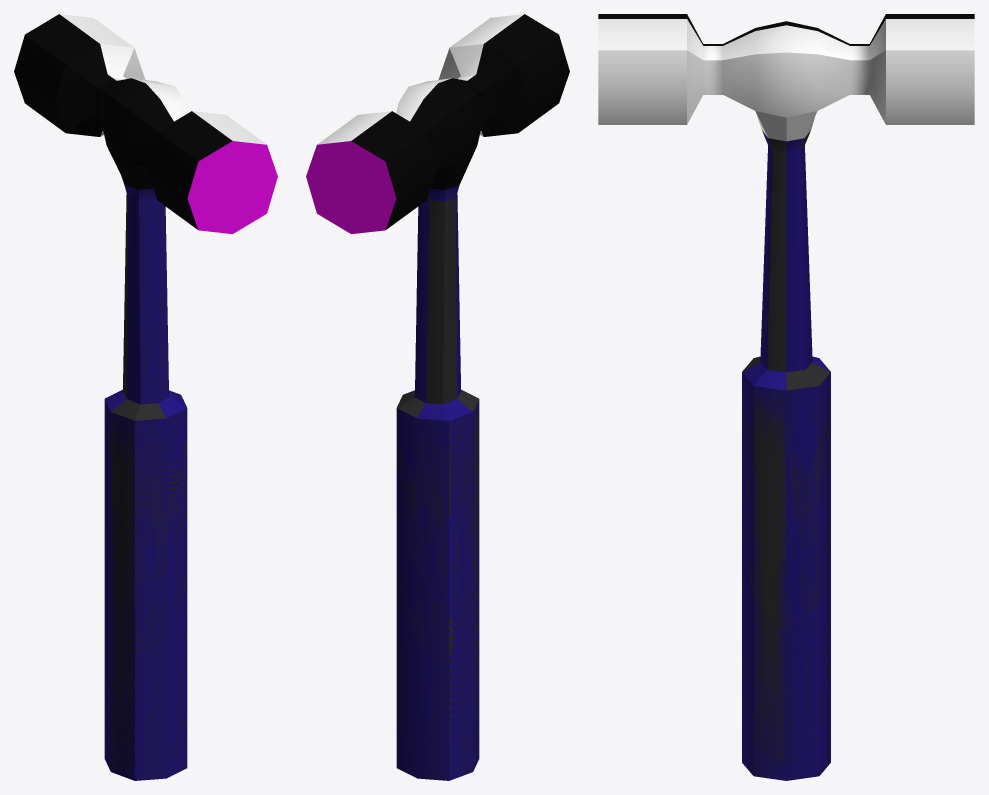
Rendered from Hammer_Textured.obj.
The picture shows the model from 3 angles, left to right: view 1: azimuth 30°, elevation 25°; view 2: azimuth 150°, elevation 25°; view 3: azimuth 270°, elevation 25°; orthographic projection. The views are drawn at different scales.
Visible parts, largest first — view 1: Hammermesh; view 2: Hammermesh; view 3: Hammermesh.
Part boxes in pixels (box(x1,y1,x2,y2)): Hammermesh: box(14, 14, 277, 780); Hammermesh: box(306, 14, 569, 780); Hammermesh: box(598, 14, 974, 780).
Size of the model in its own units: 2.53 by 18.36 by 8.42.
